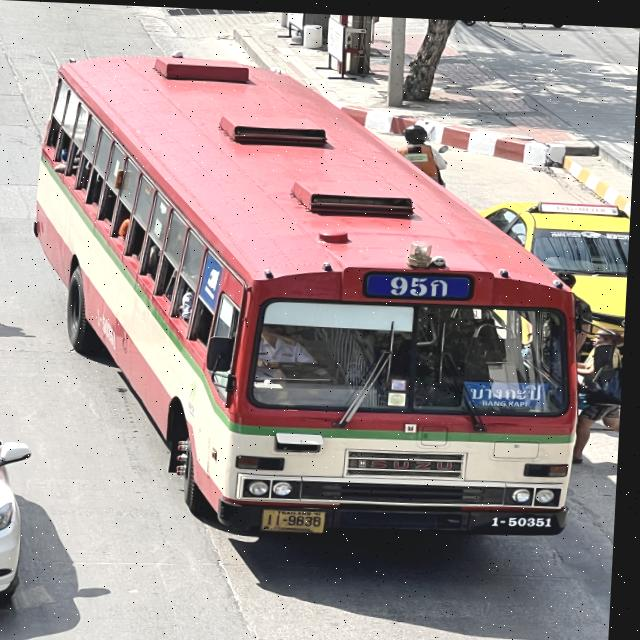BMTA-bus: (23, 48, 600, 550)
Bus-Line-Number: (365, 266, 482, 302)
Destination-Sign-Normal: (461, 376, 554, 407)
